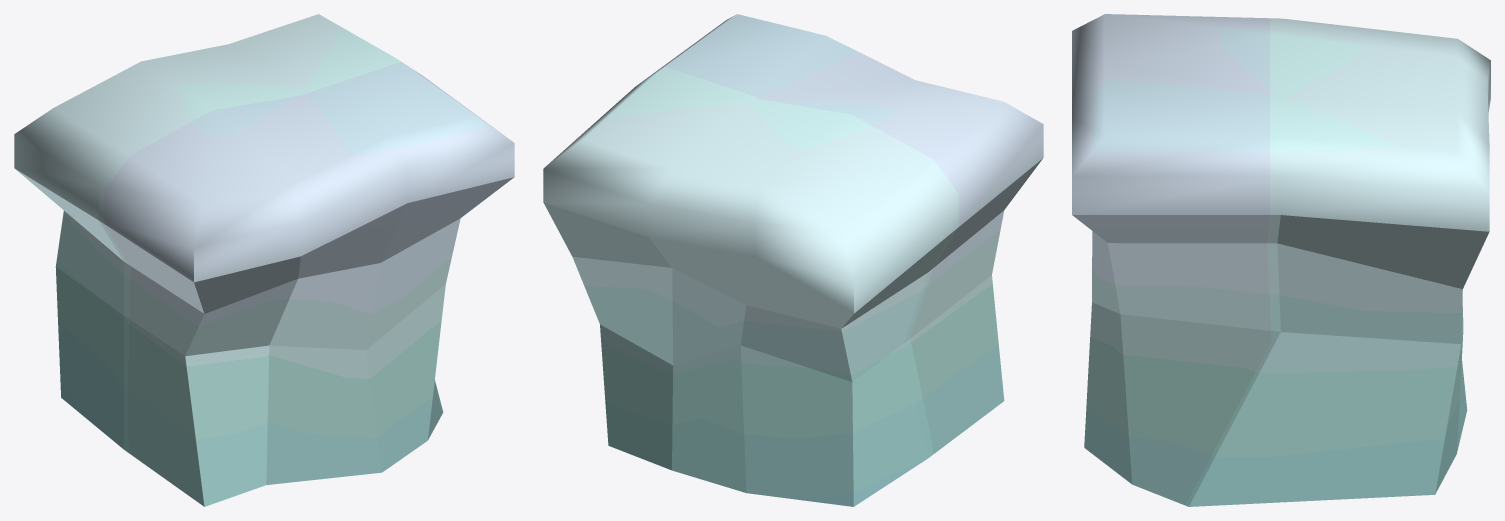
The model's file is SS_Chair.fbx.
The picture shows the model from 3 angles, left to right: view 1: azimuth 30°, elevation 25°; view 2: azimuth 150°, elevation 25°; view 3: azimuth 270°, elevation 25°; orthographic projection. The views are drawn at different scales.
Parts seen in each view (by area): view 1: Chair; view 2: Chair; view 3: Chair.
Part boxes in pixels (x1,y1,x2,y2): Chair: (14, 14, 514, 506); Chair: (543, 14, 1043, 506); Chair: (1072, 14, 1490, 506).
Size of the model in its own units: 0.8316 by 0.8013 by 0.8291.
